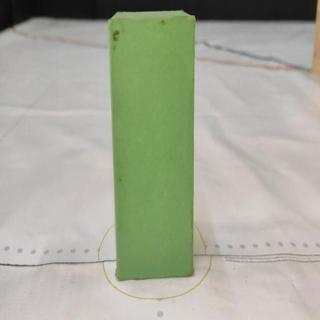greenbox: (110, 9, 197, 281)
